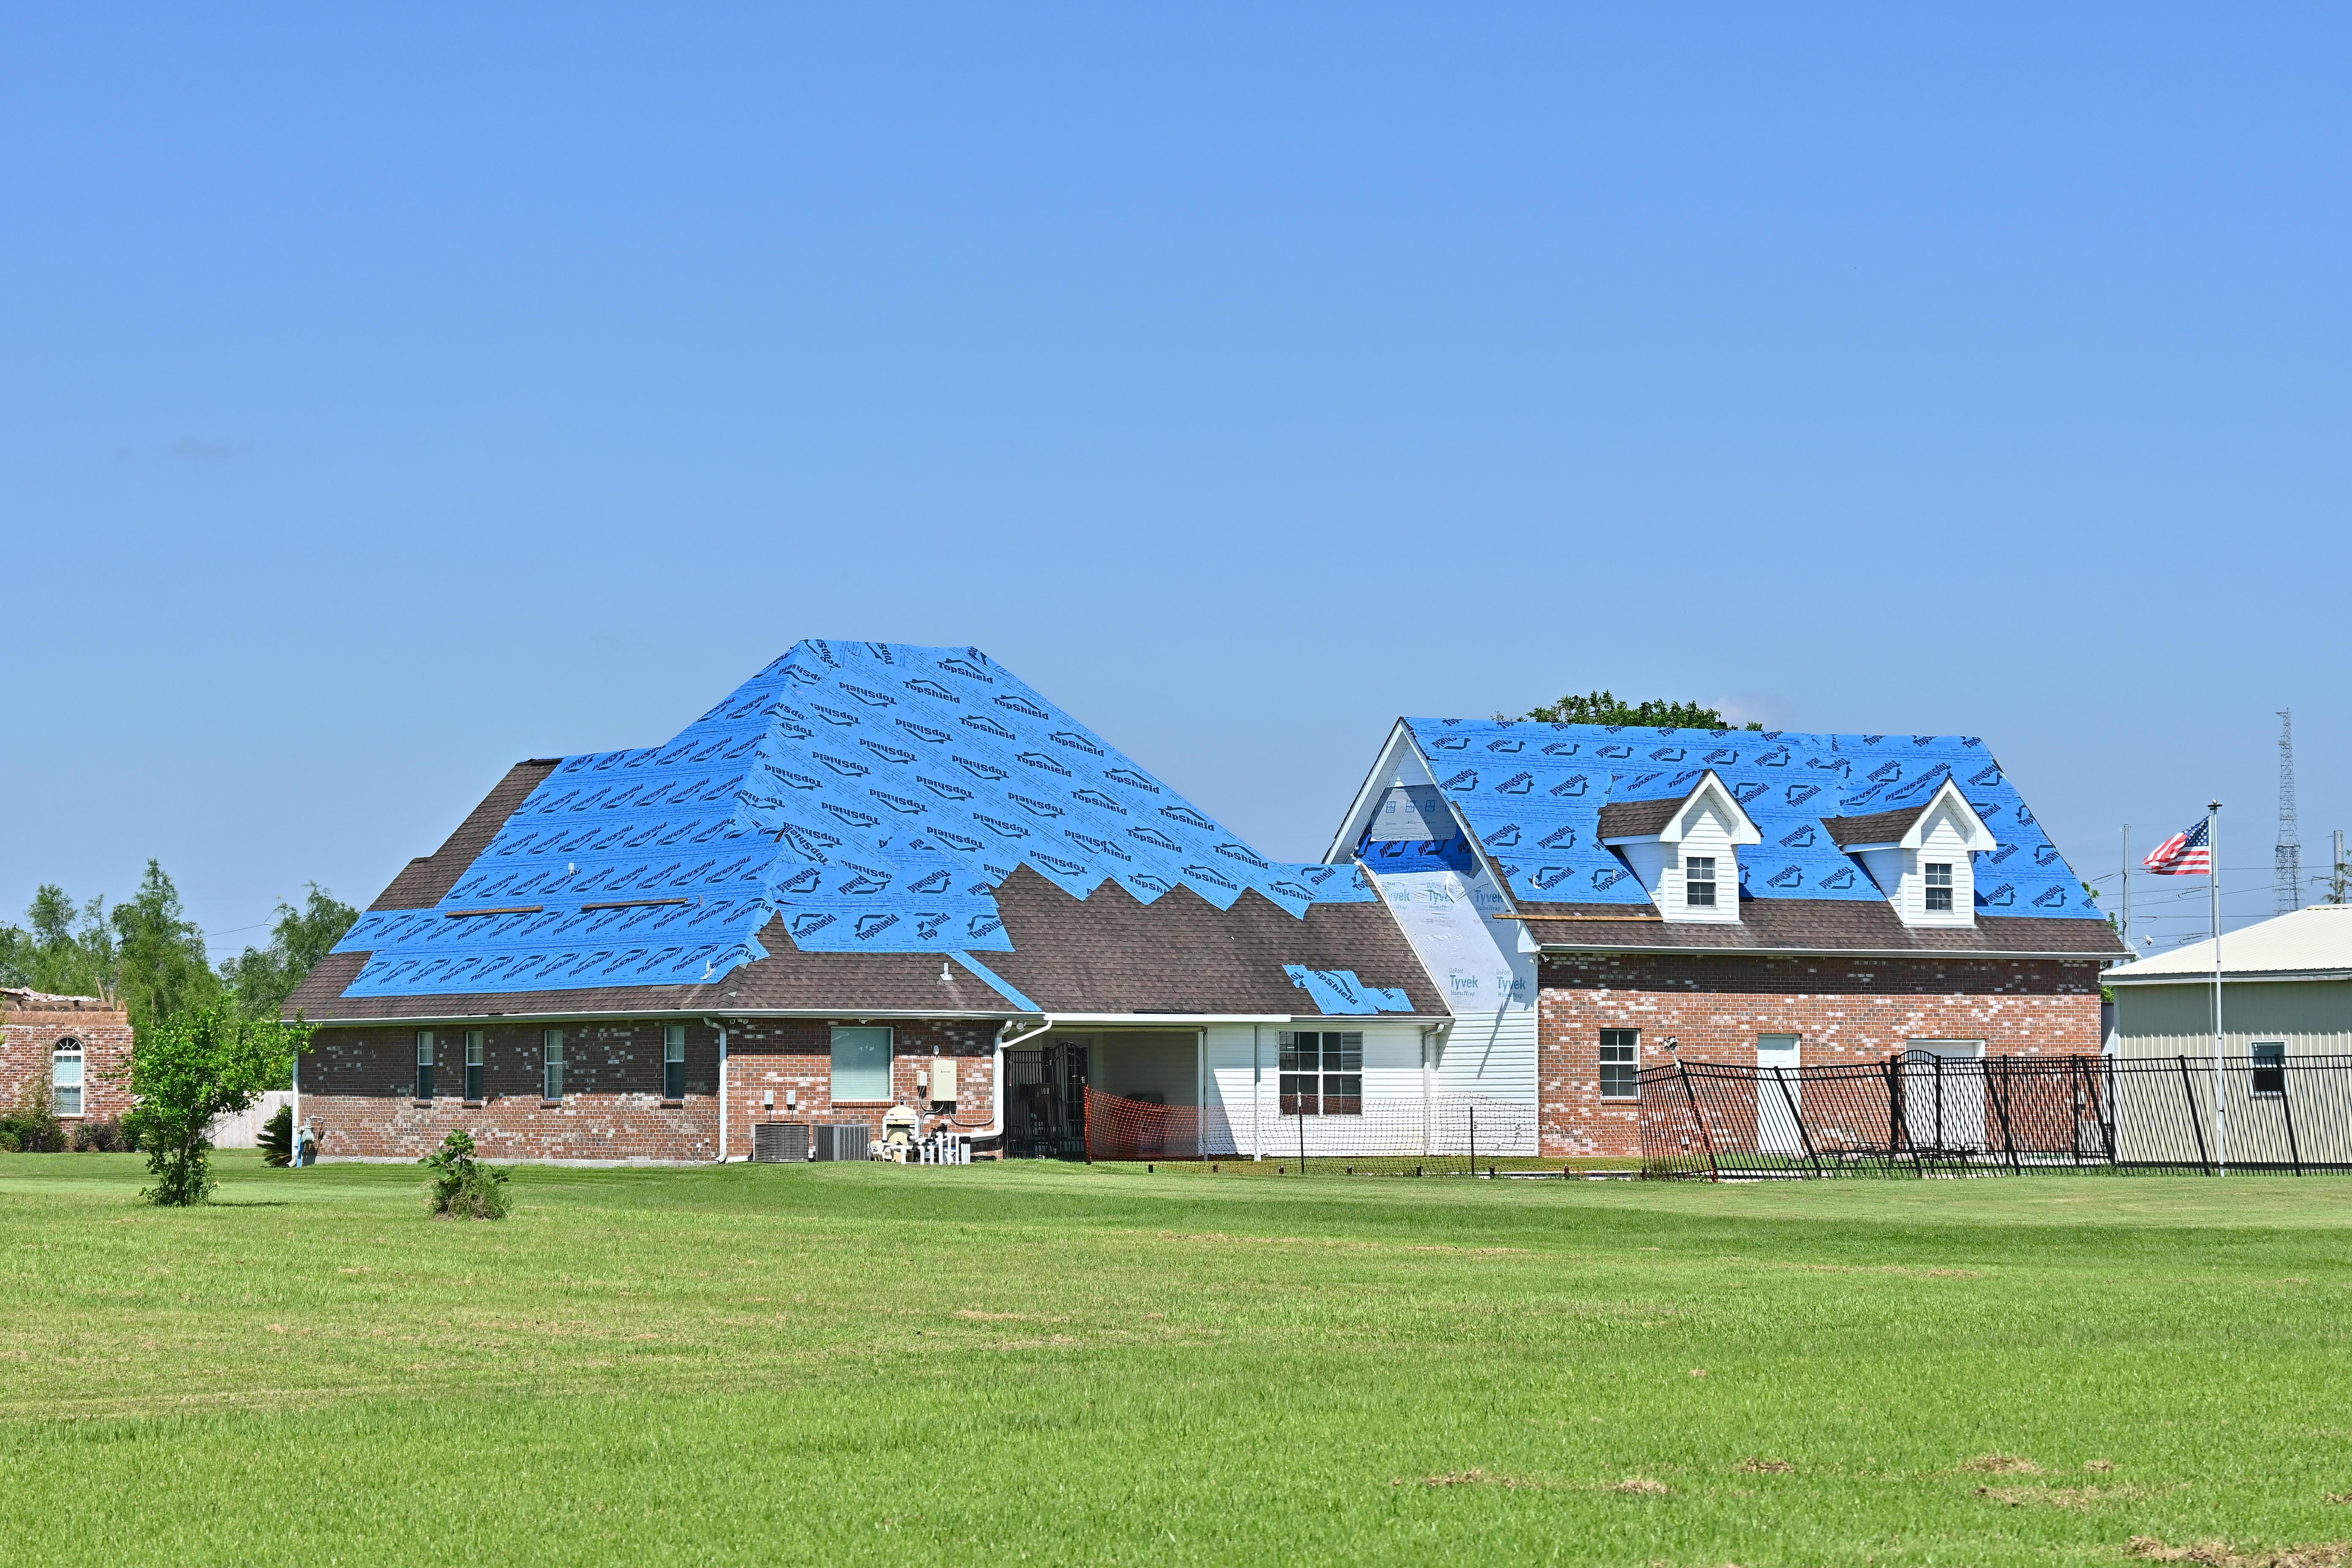affected: (292, 494, 2135, 1167)
